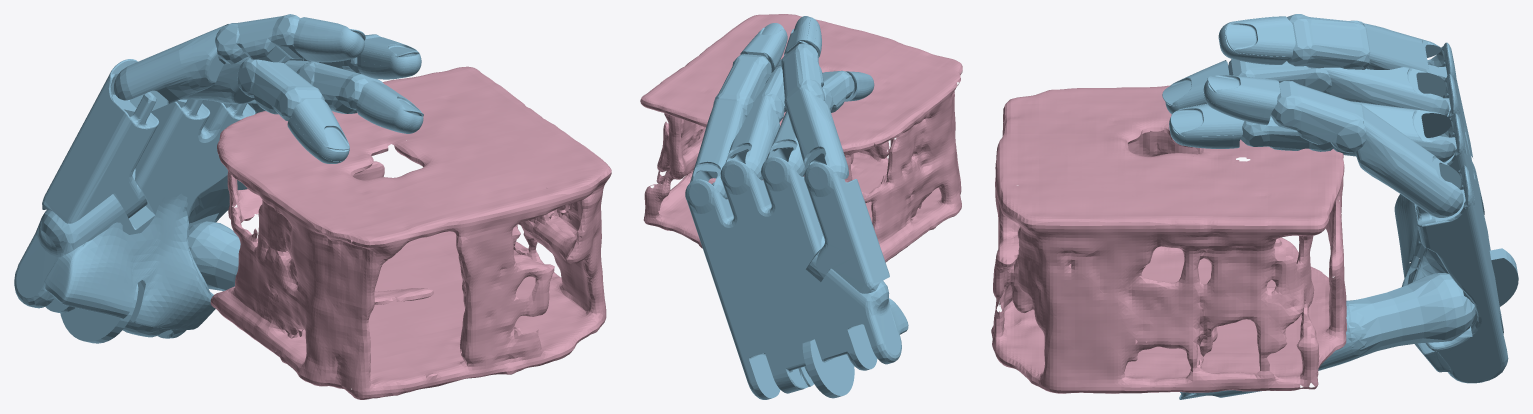
3 renders of one model, left to right at view 1: azimuth 30°, elevation 25°; view 2: azimuth 150°, elevation 25°; view 3: azimuth 270°, elevation 25°, orthographic. The views are drawn at different scales.
Parts seen in each view (by area): view 1: world, hand_isaac_q; view 2: hand_isaac_q, world; view 3: world, hand_isaac_q.
Boxes of the visible parts, left/top/right/bottom form: world: left=210, top=66, right=611, bottom=399; hand_isaac_q: left=14, top=14, right=423, bottom=343; hand_isaac_q: left=685, top=16, right=908, bottom=399; world: left=640, top=14, right=962, bottom=262; world: left=991, top=85, right=1346, bottom=393; hand_isaac_q: left=1162, top=14, right=1518, bottom=399.
Bounding box in the file's own units: 0.176 × 0.1605 × 0.1949.
